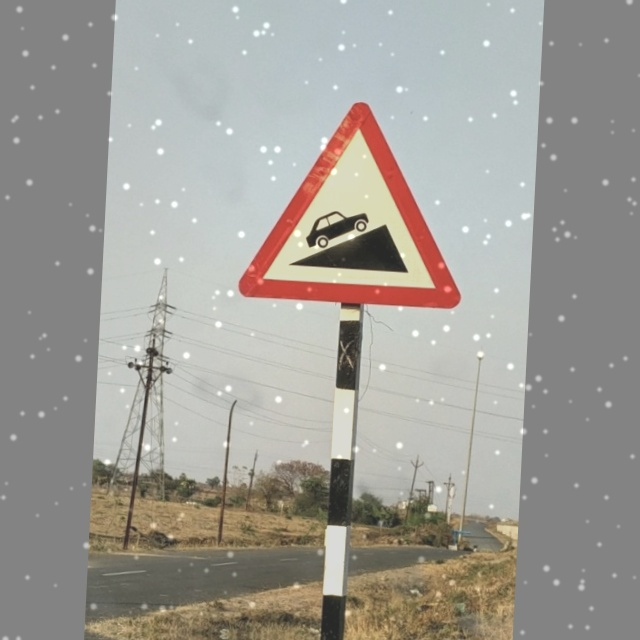Steep_Ascent: (241, 94, 465, 313)
